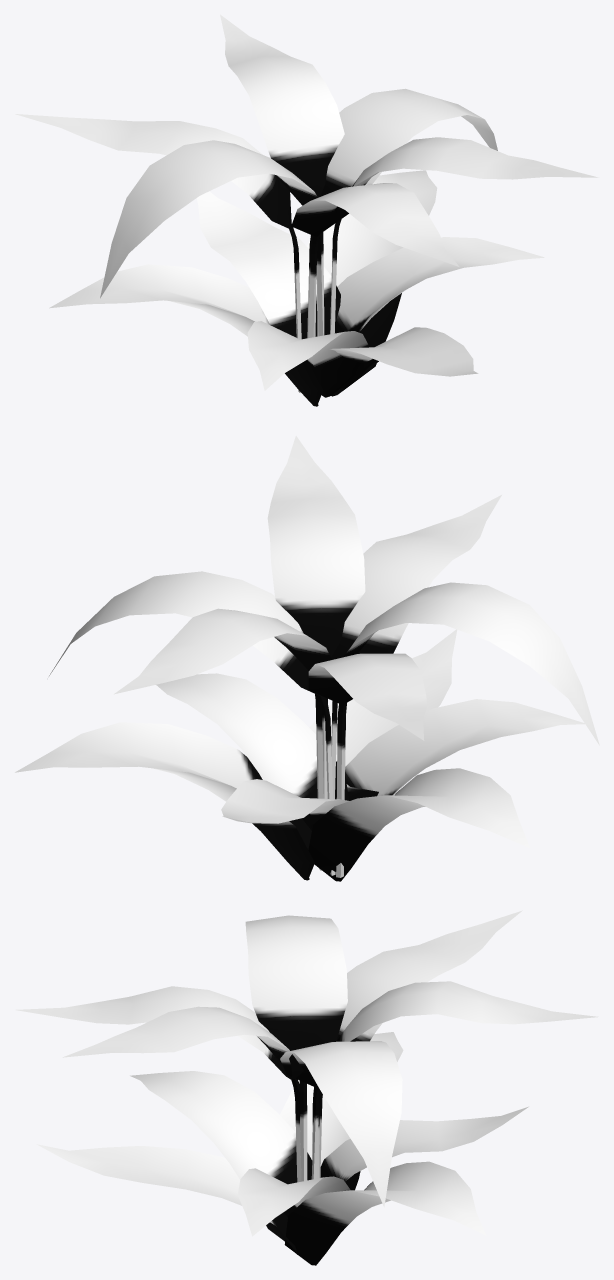
The model's file is grass4.FBX.
3 renders of one model, top to bottom at view 1: azimuth 30°, elevation 25°; view 2: azimuth 150°, elevation 25°; view 3: azimuth 270°, elevation 25°, orthographic. The views are drawn at different scales.
Visible parts, largest first — view 1: Object048; view 2: Object048; view 3: Object048.
Boxes of the visible parts, x1,y1,x2,y2 form: Object048: [15, 14, 598, 406]; Object048: [15, 436, 599, 881]; Object048: [16, 910, 598, 1265].
Size of the model in its own units: 77.51 by 45.76 by 88.08.
